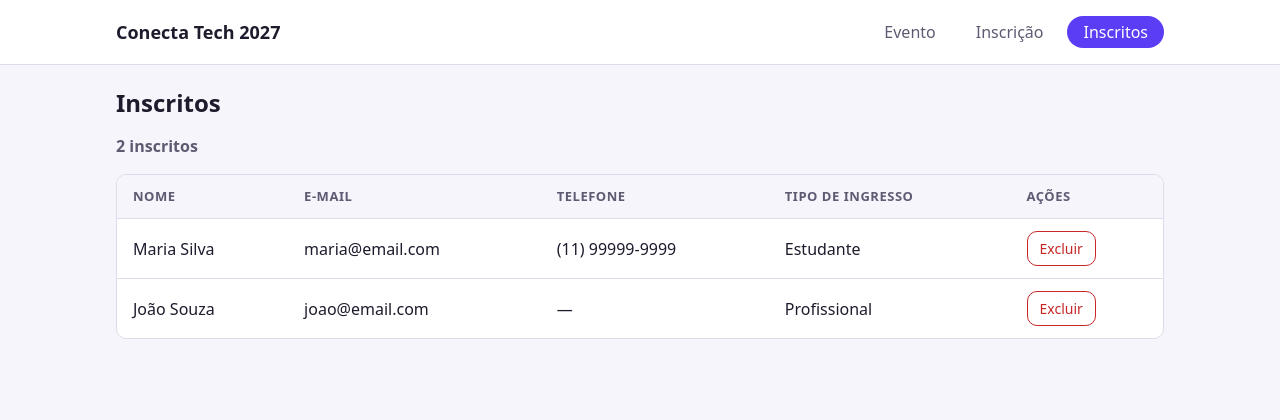
Test case: tela de inscritos › exclusão › REQ-FE-28: outro erro da API mostra a mensagem e mantém a tabela como estava
Click the button "Excluir" in the row of "Maria Silva" at (1061, 249), box [1026,231,1096,266]
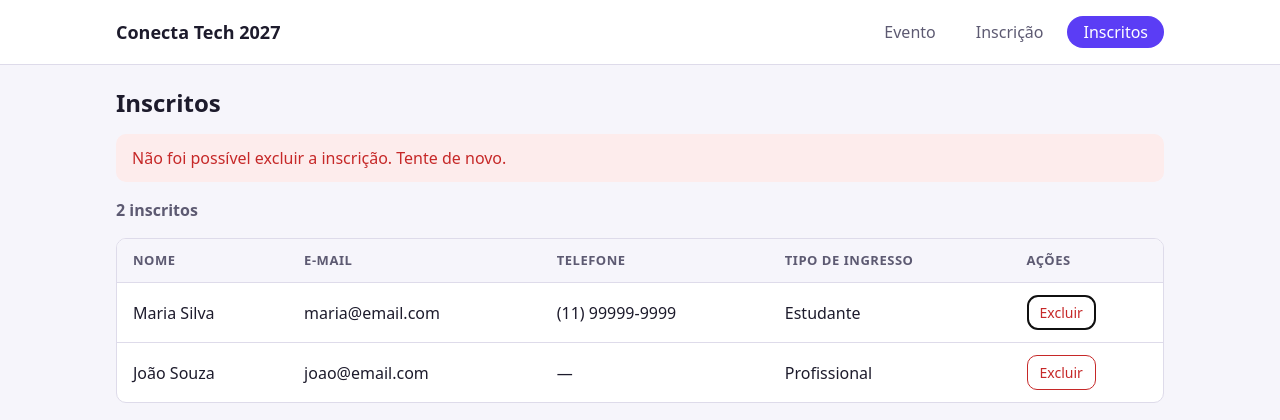
Expected: the text "2 inscritos" is shown, [116,199,198,221]
Expected: the message reads "Não foi possível excluir a inscrição. Tente de novo.", [132,147,506,169]
